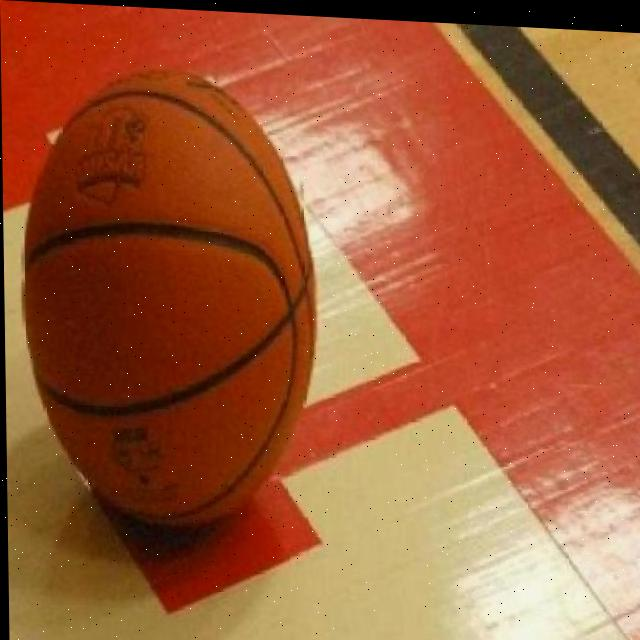Basketball: (21, 64, 319, 535)
